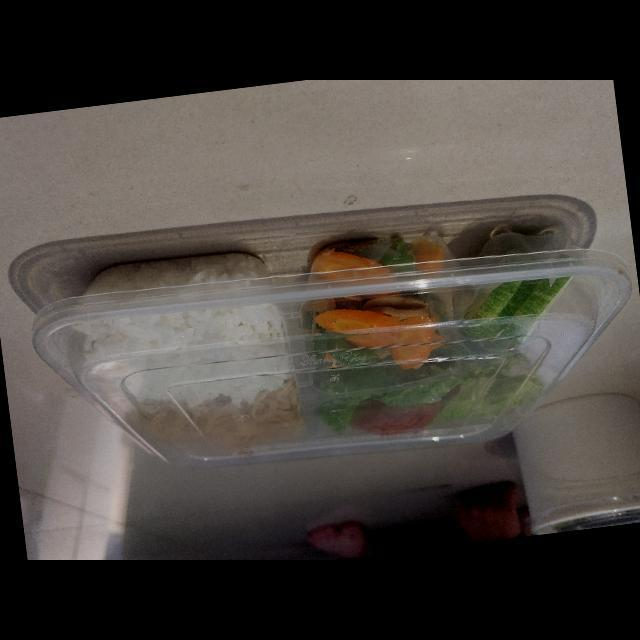bento: (28, 205, 631, 476)
